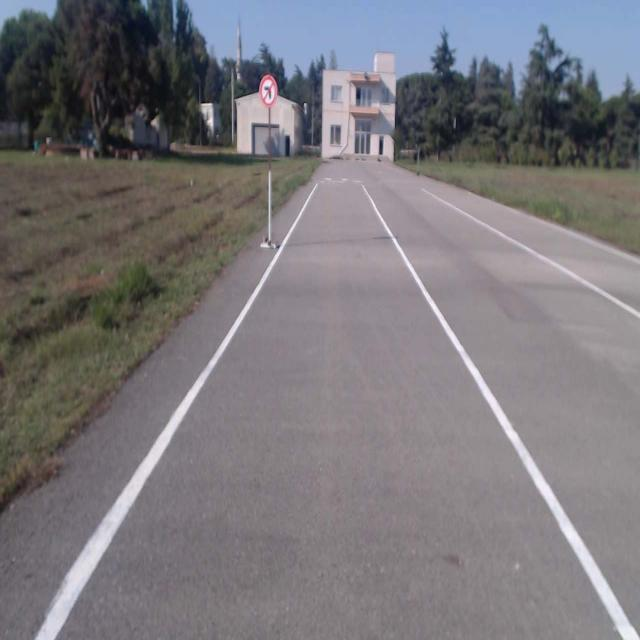soladonulmez: (259, 75, 277, 105)
